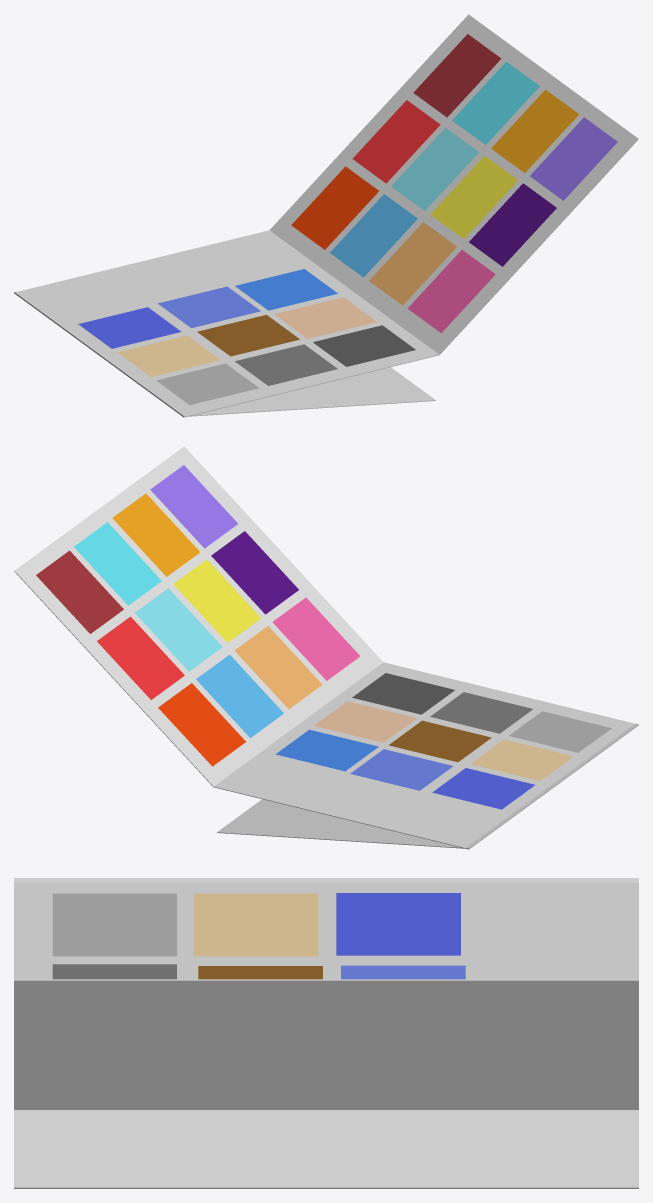
Rendered from paper.fbx.
3 renders of one model, top to bottom at view 1: azimuth 30°, elevation 25°; view 2: azimuth 150°, elevation 25°; view 3: azimuth 270°, elevation 25°, orthographic. The views are drawn at different scales.
Parts seen in each view (by area): view 1: paper, paper.001, paper.003, Plane, Plane.005, Plane.008, Plane.001, Plane.004, Plane.007, Plane.002, Plane.003, Plane.006 (+12 smaller); view 2: paper, paper.001, paper.003, Plane, Plane.002, Plane.010, Plane.011, Plane.001, Plane.003, Plane.009, Plane.004, Plane.006 (+12 smaller); view 3: paper, paper.003, paper.001, Plane.018, Plane.021, Plane.015, Plane.022, Plane.016, Plane.019.
Boxes of the visible parts, left/top/right/bottom form: paper: left=269, top=14, right=638, bottom=354; paper.001: left=14, top=230, right=438, bottom=417; paper.003: left=14, top=291, right=435, bottom=416; Plane: left=291, top=166, right=378, bottom=249; Plane.005: left=452, top=61, right=539, bottom=144; Plane.008: left=491, top=89, right=578, bottom=172; Plane.001: left=352, top=100, right=440, bottom=183; Plane.004: left=391, top=127, right=478, bottom=210; Plane.007: left=430, top=155, right=518, bottom=238; Plane.002: left=413, top=34, right=501, bottom=117; Plane.003: left=330, top=194, right=417, bottom=277; Plane.006: left=369, top=222, right=456, bottom=305; paper: left=14, top=446, right=383, bottom=786; paper.001: left=213, top=662, right=638, bottom=849; paper.003: left=217, top=723, right=638, bottom=848; Plane: left=158, top=683, right=245, bottom=766; Plane.002: left=36, top=550, right=123, bottom=633; Plane.010: left=211, top=531, right=298, bottom=614; Plane.011: left=150, top=465, right=237, bottom=548; Plane.001: left=97, top=616, right=184, bottom=699; Plane.003: left=196, top=654, right=283, bottom=737; Plane.009: left=272, top=597, right=360, bottom=680; Plane.004: left=135, top=588, right=222, bottom=671; Plane.006: left=234, top=626, right=322, bottom=709; paper: left=14, top=979, right=638, bottom=1109; paper.003: left=14, top=878, right=638, bottom=1188; paper.001: left=14, top=882, right=638, bottom=979; Plane.018: left=193, top=893, right=318, bottom=956; Plane.021: left=52, top=893, right=176, bottom=956; Plane.015: left=336, top=893, right=460, bottom=955; Plane.022: left=52, top=964, right=176, bottom=979; Plane.016: left=341, top=965, right=465, bottom=979; Plane.019: left=198, top=966, right=322, bottom=979.
Bounding box in the file's own units: 4.57 × 2.04 × 2.95.
